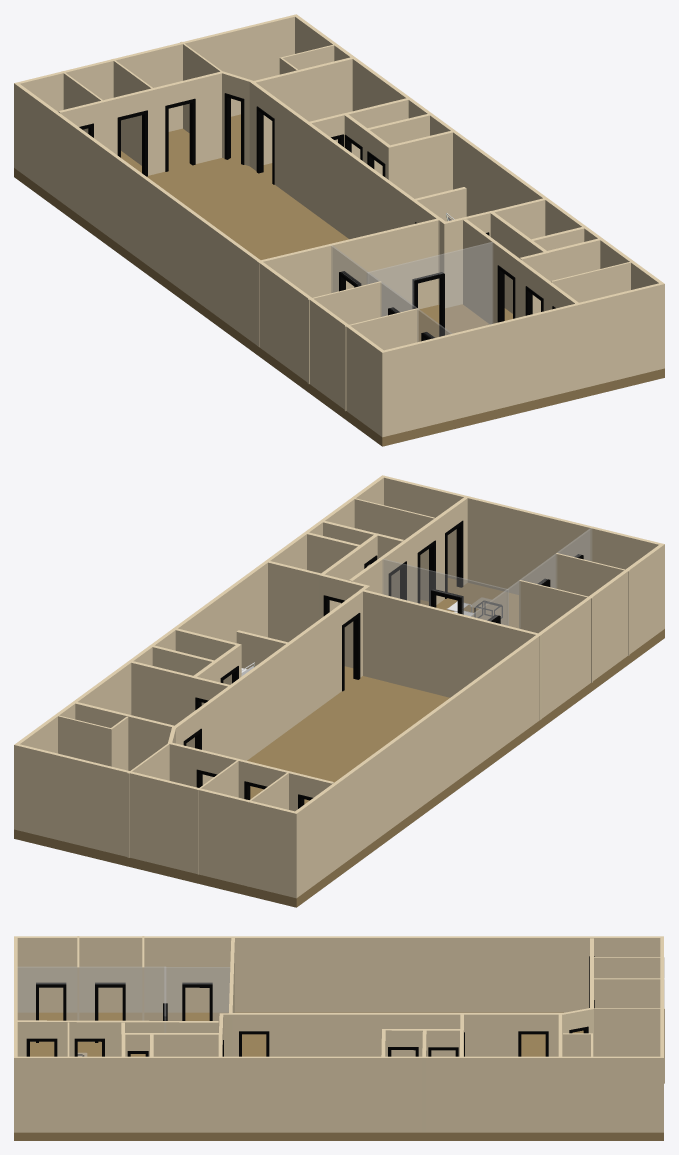
Rendered from floor4_updated.gltf.
3 views of the same model, one above another, from view 1: azimuth 30°, elevation 25°; view 2: azimuth 150°, elevation 25°; view 3: azimuth 270°, elevation 25° (orthographic). The views are drawn at different scales.
Parts seen in each view (by area): view 1: Wall, Wall.025, Slab, Wall.010, Wall.011, Wall.007, Wall.001, Wall.002, Wall.009, Wall.012, Wall.024, Wall.023 (+12 smaller); view 2: Wall, Slab, Wall.025, Wall.010, Wall.011, Wall.009, Wall.001, Wall.026, Wall.007, Wall.004, Wall.002, Wall.023 (+10 smaller); view 3: Wall, Wall.025, Slab, Wall.011, Wall.001, Wall.005, Wall.009, Wall.015, Wall.006, Wall.007, Wall.026, Wall.008 (+5 smaller).
Part boxes in pixels (bbox=[...]): Wall: bbox=[14, 14, 664, 437]; Wall.025: bbox=[58, 71, 442, 304]; Slab: bbox=[14, 114, 664, 446]; Wall.010: bbox=[257, 211, 493, 346]; Wall.011: bbox=[331, 242, 492, 341]; Wall.007: bbox=[366, 113, 455, 198]; Wall.001: bbox=[463, 219, 580, 324]; Wall.002: bbox=[252, 57, 353, 164]; Wall.009: bbox=[489, 197, 587, 313]; Wall.012: bbox=[307, 281, 381, 383]; Wall.024: bbox=[344, 308, 418, 410]; Wall.023: bbox=[551, 261, 633, 302]; Wall: bbox=[14, 475, 664, 898]; Slab: bbox=[14, 578, 664, 907]; Wall.025: bbox=[168, 589, 364, 811]; Wall.010: bbox=[319, 574, 541, 719]; Wall.011: bbox=[382, 528, 591, 628]; Wall.009: bbox=[268, 532, 361, 642]; Wall.001: bbox=[349, 496, 467, 604]; Wall.026: bbox=[128, 660, 217, 746]; Wall.007: bbox=[149, 628, 241, 705]; Wall.004: bbox=[56, 715, 128, 770]; Wall.002: bbox=[75, 702, 175, 770]; Wall.023: bbox=[354, 498, 434, 601]; Wall: bbox=[14, 936, 663, 1132]; Wall.025: bbox=[228, 938, 593, 1056]; Slab: bbox=[14, 1012, 663, 1140]; Wall.011: bbox=[17, 966, 229, 1032]; Wall.001: bbox=[16, 1020, 218, 1056]; Wall.005: bbox=[590, 1008, 664, 1083]; Wall.009: bbox=[150, 1033, 222, 1132]; Wall.015: bbox=[590, 978, 664, 1008]; Wall.006: bbox=[590, 957, 664, 978]; Wall.007: bbox=[381, 1029, 426, 1132]; Wall.026: bbox=[423, 1029, 463, 1132]; Wall.008: bbox=[121, 1033, 152, 1132].
Size of the model in its own units: 9.48 by 3 by 21.37.
